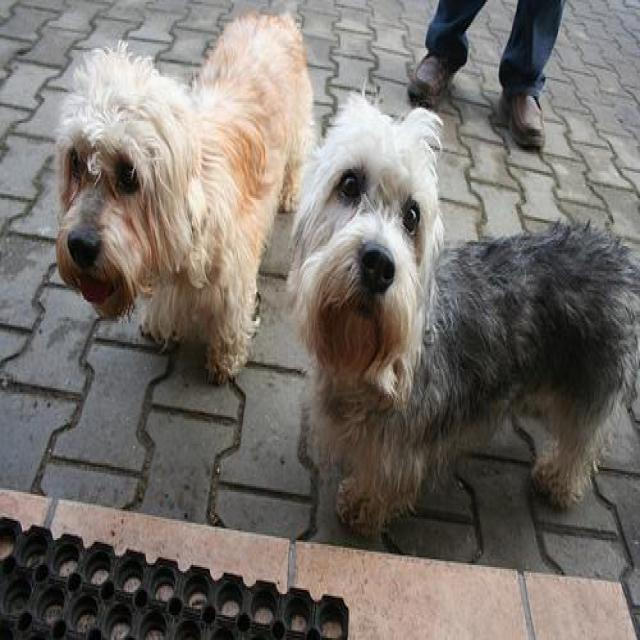dandie_dinmont: (287, 89, 637, 538), (55, 6, 321, 392)
